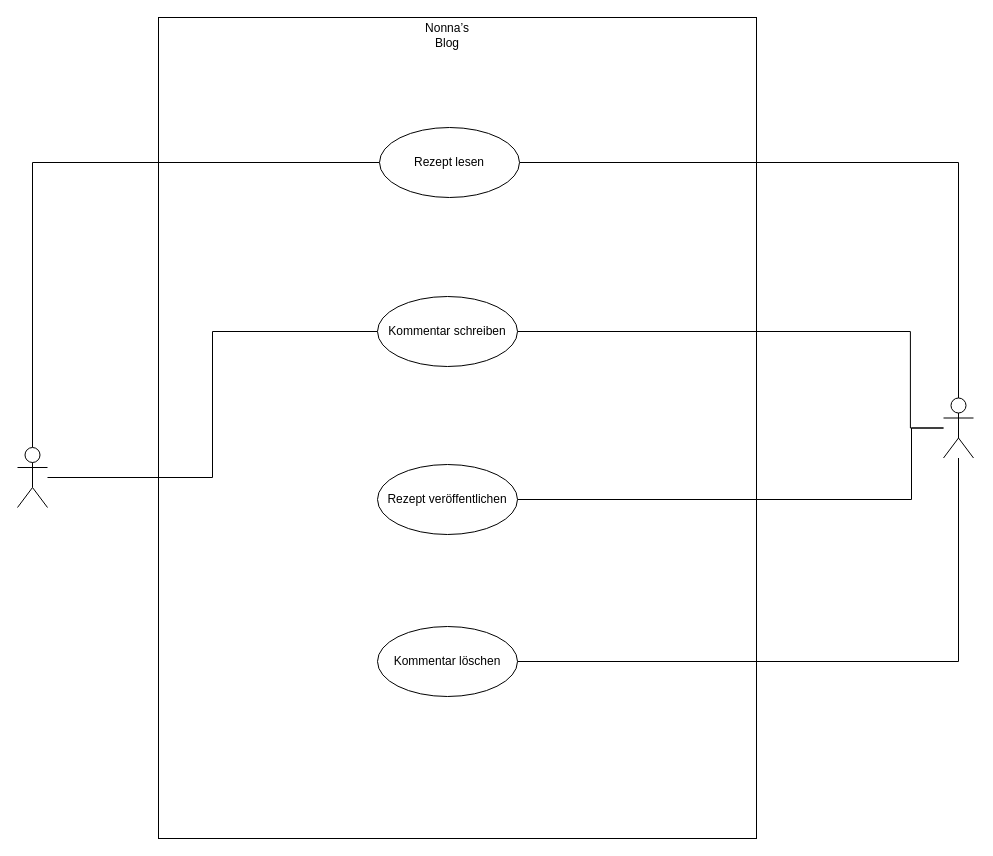
This 993x856 diagram has some shape labels left out. The shapes that lost their labels are listed below. From the top down, each one's centre as x and y in pixels, then its label:
At (x=958, y=427): "Nonna".
At (x=32, y=477): "Leser".
